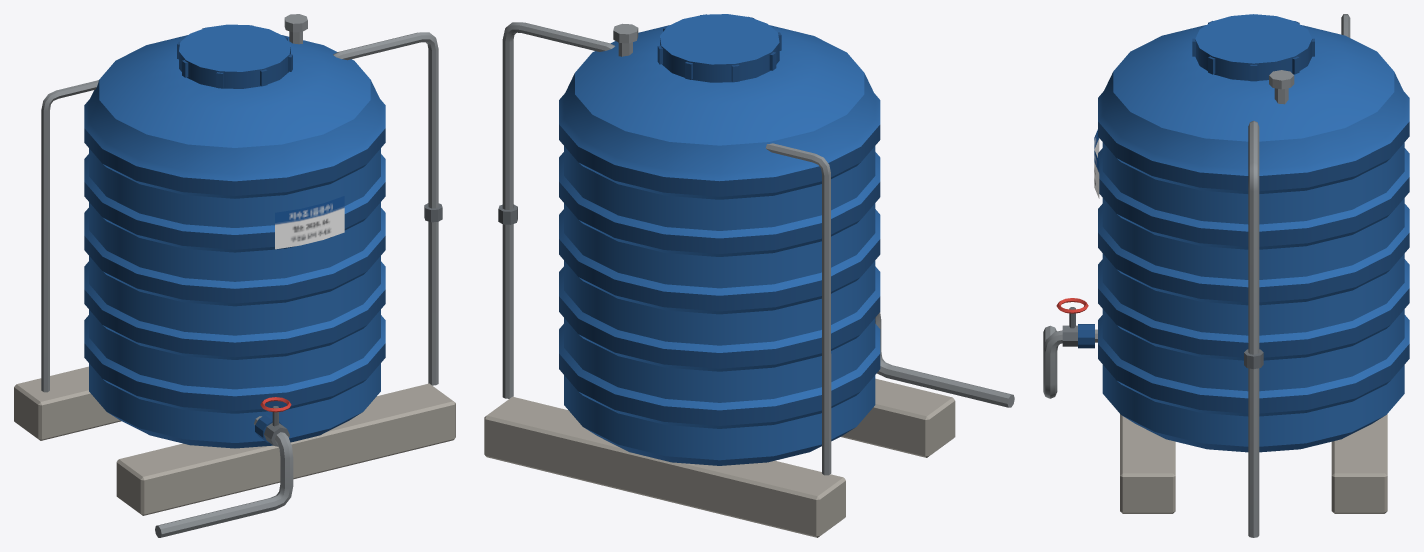
Rendered from SC_Util_Water_Tank_Rooftop.gltf.
3 renders of one model, left to right at view 1: azimuth 30°, elevation 25°; view 2: azimuth 150°, elevation 25°; view 3: azimuth 270°, elevation 25°, orthographic. The views are drawn at different scales.
Parts seen in each view (by area): view 1: SC_Util_Water_Tank_Rooftop; view 2: SC_Util_Water_Tank_Rooftop; view 3: SC_Util_Water_Tank_Rooftop.
Boxes of the visible parts, x1,y1,x2,y2 form: SC_Util_Water_Tank_Rooftop: (14, 14, 455, 537); SC_Util_Water_Tank_Rooftop: (484, 14, 1014, 537); SC_Util_Water_Tank_Rooftop: (1043, 14, 1409, 537).
Size of the model in its own units: 1.63 by 1.57 by 1.31.
Materials: 2 (2 with a texture image).
